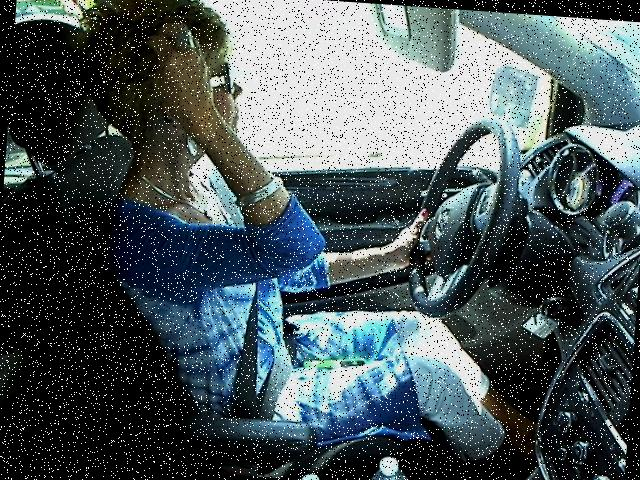c6 - Hair and Makeup: (50, 0, 535, 337)
